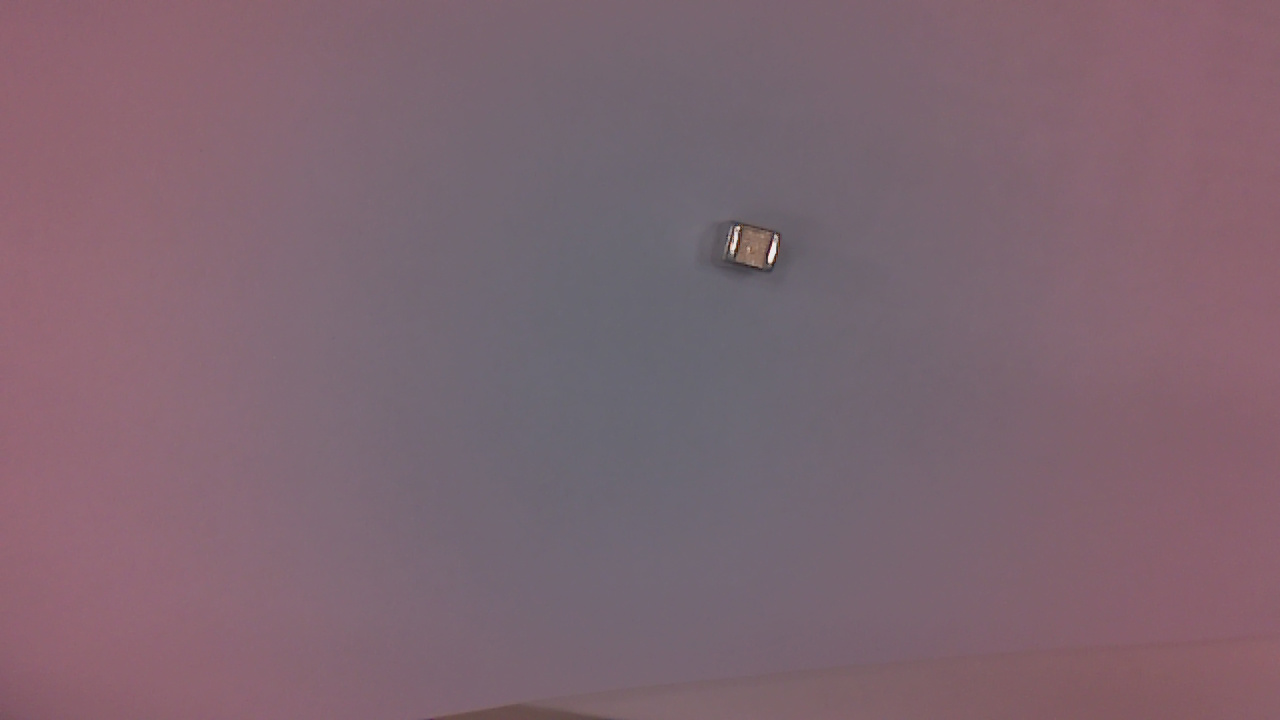Condensator: (720, 223, 792, 283)
